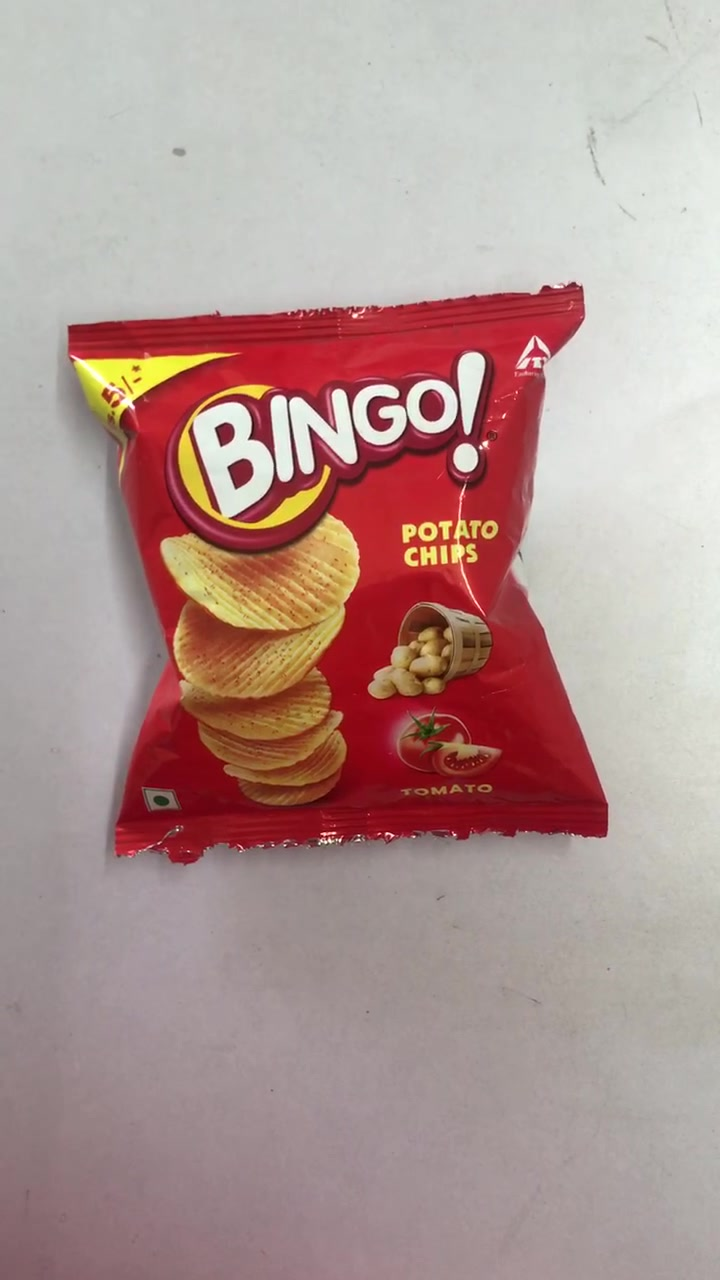Bingo: (73, 318, 610, 852)
